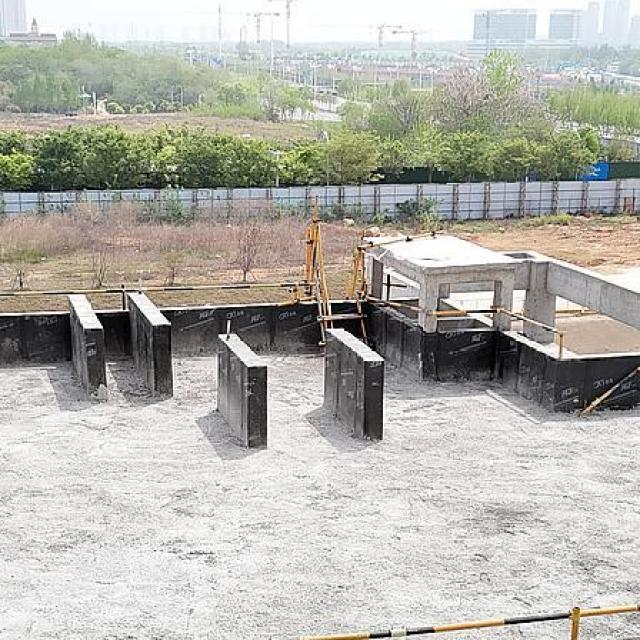edge_guardrail: (364, 295, 569, 358), (298, 604, 640, 639), (0, 283, 317, 311), (580, 365, 640, 415)
